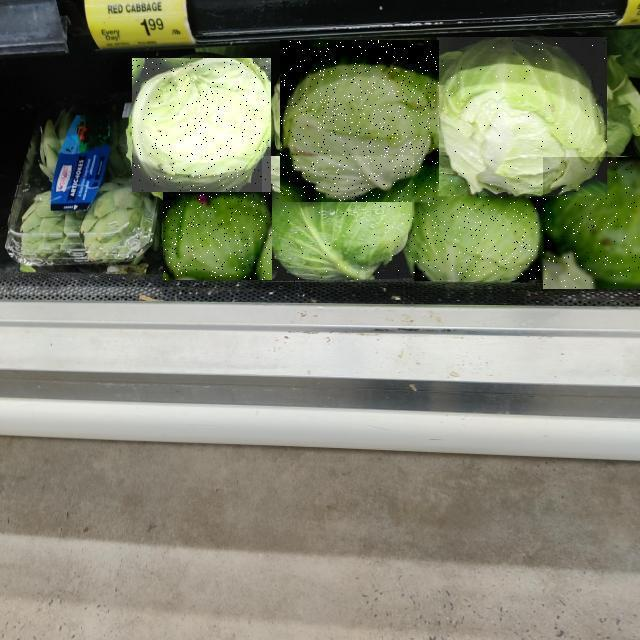Cabbage: (437, 37, 607, 196), (280, 41, 439, 203), (263, 156, 415, 282), (132, 58, 271, 192), (412, 175, 545, 281), (543, 157, 640, 289), (163, 193, 272, 281)
